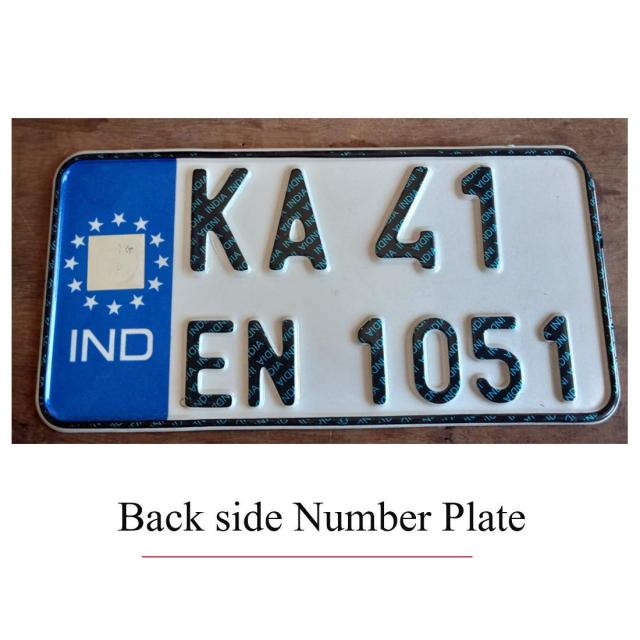plate: (43, 152, 623, 430)
